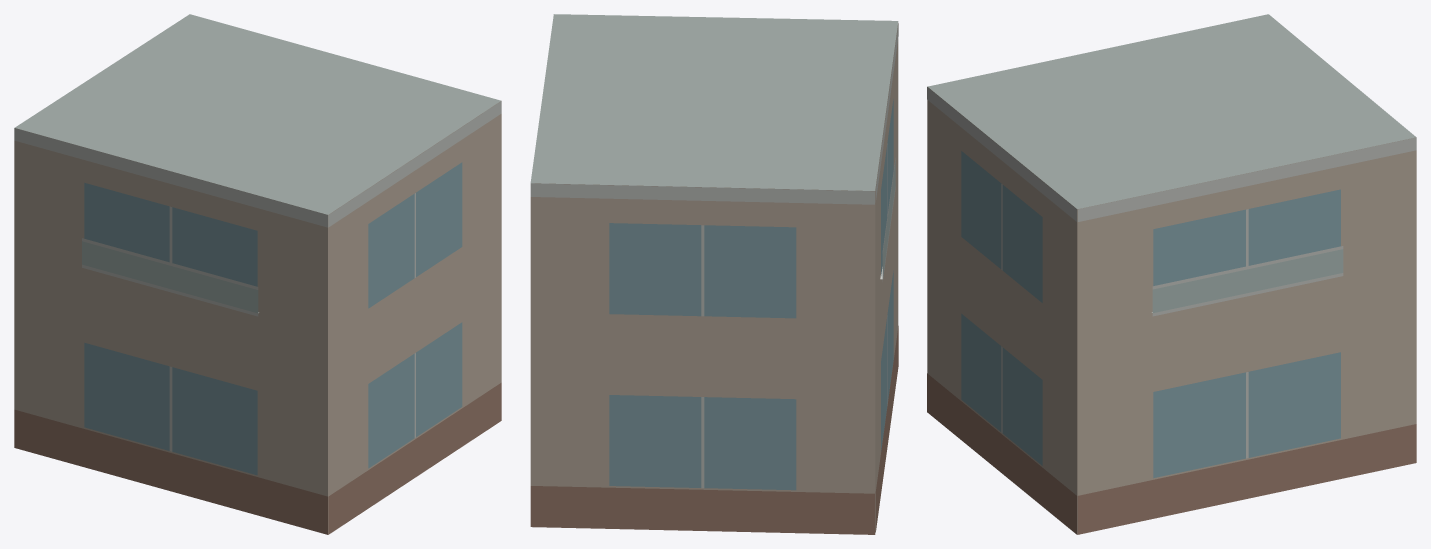
The model's file is survey-upis-32616502.glb.
3 views of the same model, side by side, from view 1: azimuth 30°, elevation 25°; view 2: azimuth 150°, elevation 25°; view 3: azimuth 270°, elevation 25° (orthographic). The views are drawn at different scales.
Parts seen in each view (by area): view 1: survey-upis-32616502.tmp; view 2: survey-upis-32616502.tmp; view 3: survey-upis-32616502.tmp.
Boxes of the visible parts, bbox=[...] form: survey-upis-32616502.tmp: bbox=[14, 14, 501, 534]; survey-upis-32616502.tmp: bbox=[530, 14, 898, 534]; survey-upis-32616502.tmp: bbox=[927, 14, 1416, 534].
Size of the model in its own units: 7.85 by 6.1 by 8.32.
